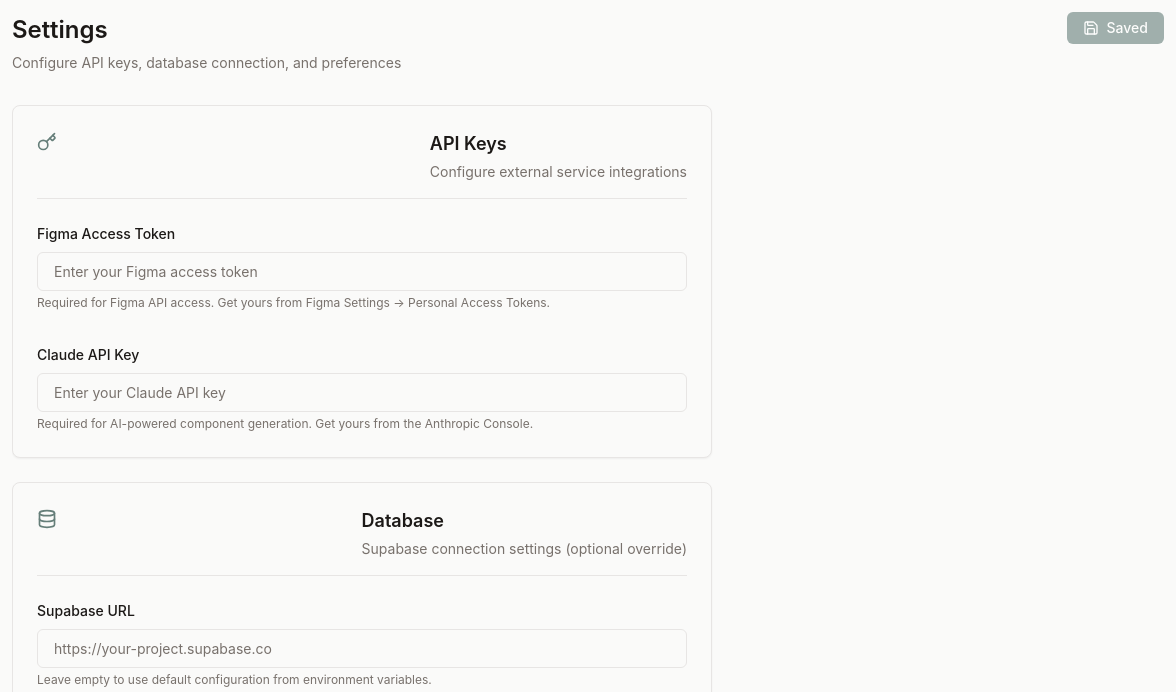
SettingsPage › Form State Management › tracks changes and shows unsaved warning
Expected: the text "You have unsaved changes" is not shown
In the password field labelled "Figma Access Token": (362, 272) [37,252,687,291], type "new-token"
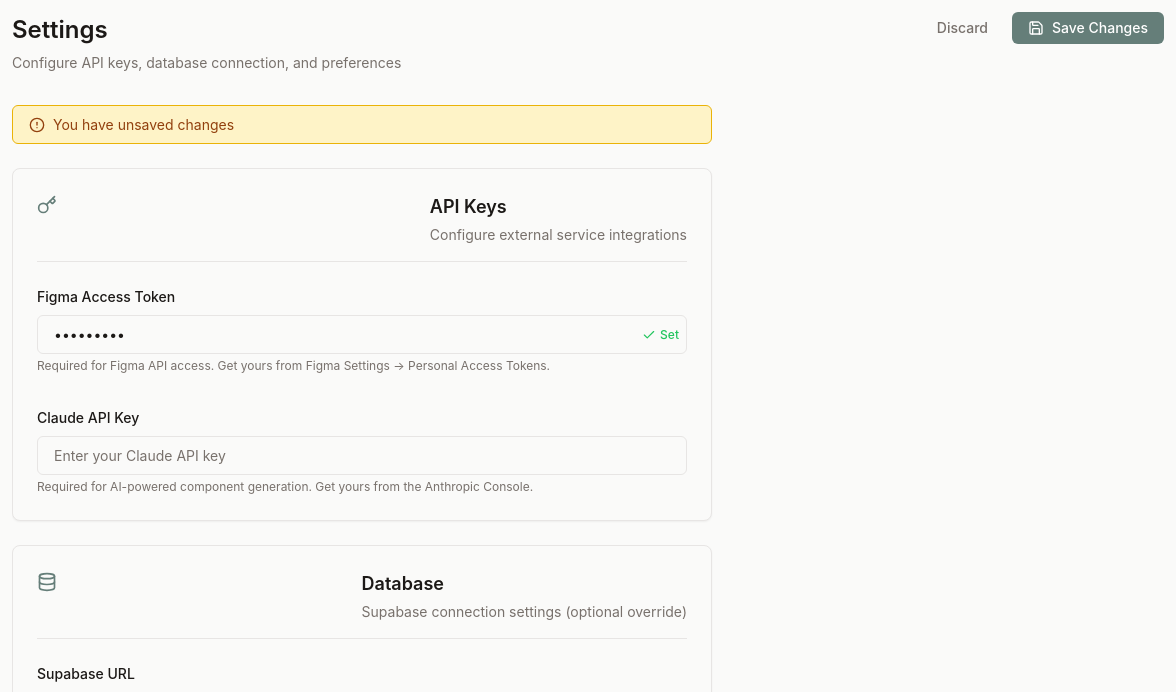
Expected: the text "You have unsaved changes" is shown, [53,114,234,135]
